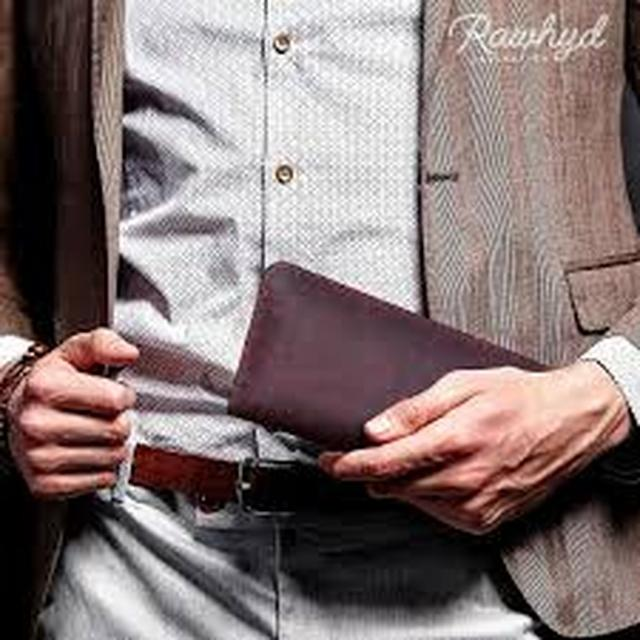wallet: (203, 248, 555, 542)
